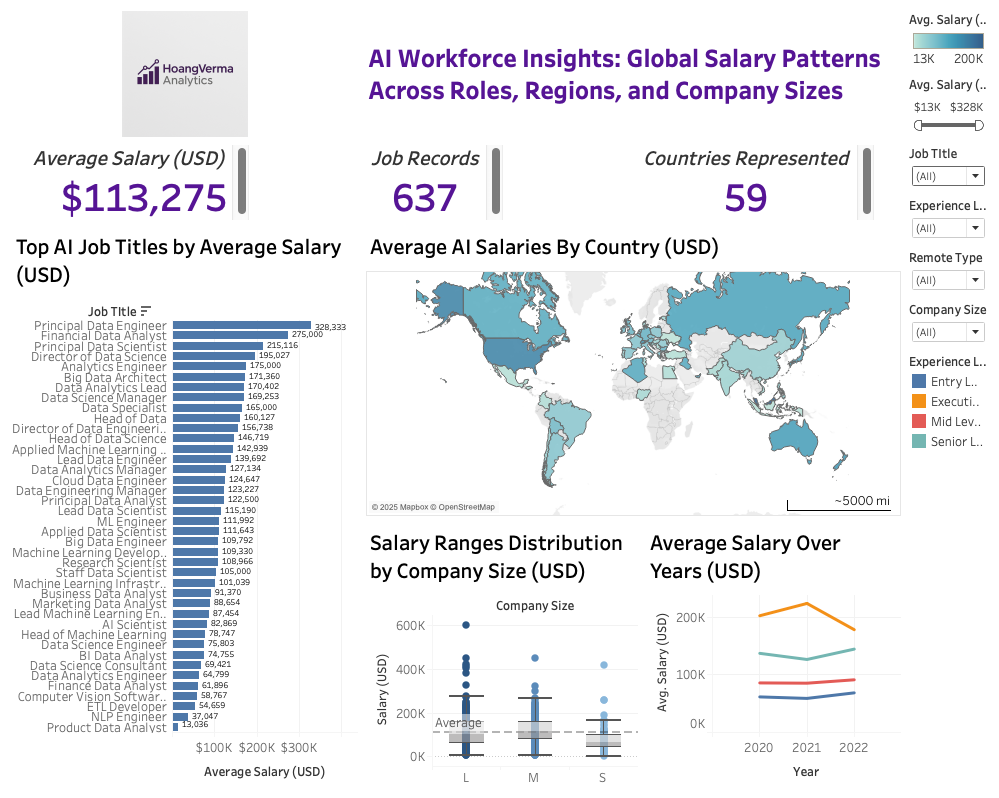

Layout of this report page (visuals, bound fields, positions):
{"tool":"tableau","page":{"name":"AI Salaries Dashboard: Exploring Pay by Role, Experience, and Work Style","canvas":[1000,800],"ordinal":0},"visuals":[{"type":"image","param":"Image/ChatGPT Image Oct 6, 2025, 06_28_18 PM.png","box":[8,8,353.8,134]},{"type":"text","box":[361.8,8,543.2,134]},{"type":"legend","title":"Map - Salary by Company Location","param":"[federated.12j5se81bbtu4p132m4yo08x0md2].[avg:Salary (USD):qk]","box":[905,8,87,65]},{"type":"filter","title":"Bar Chart - Job Title Salaries","param":"[federated.12j5se81bbtu4p132m4yo08x0md2].[avg:Salary (USD):qk]","box":[905,73,87,69]},{"type":"worksheet","title":"KPI – Average Salary","mark":"Automatic","box":[8,142,353.8,83]},{"type":"worksheet","title":"KPI – Job Records","mark":"Automatic","box":[361.8,142,271.6,83]},{"type":"worksheet","title":"KPI – Countries","mark":"Automatic","box":[633.4,142,271.6,83]},{"type":"filter","title":"Bar Chart - Job Title Salaries","param":"[federated.12j5se81bbtu4p132m4yo08x0md2].[none:Job TItle:nk]","box":[905,142,87,52]},{"type":"filter","title":"Bar Chart - Job Title Salaries","param":"[federated.12j5se81bbtu4p132m4yo08x0md2].[none:Experience Level:nk]","box":[905,194,87,52]},{"type":"worksheet","title":"Bar Chart - Job Title Salaries","mark":"Automatic","rows":["Job TItle"],"cols":["Salary (USD)"],"box":[8,225,353.8,567]},{"type":"worksheet","title":"Map - Salary by Company Location","mark":"Automatic","box":[361.8,225,543.2,296]},{"type":"filter","title":"Bar Chart - Job Title Salaries","param":"[federated.12j5se81bbtu4p132m4yo08x0md2].[none:Remote Type:nk]","box":[905,246,87,52]},{"type":"filter","title":"Bar Chart - Job Title Salaries","param":"[federated.12j5se81bbtu4p132m4yo08x0md2].[none:Company Size:nk]","box":[905,298,87,52]},{"type":"legend","title":"Line - Salary Trend Over Time","param":"[federated.12j5se81bbtu4p132m4yo08x0md2].[none:Experience Label:nk]","box":[905,350,87,106]},{"type":"worksheet","title":"Box Plot - Salary by Experience Level","mark":"Circle","rows":["Salary (USD)"],"cols":["Company Size"],"box":[361.8,521,280,271]},{"type":"worksheet","title":"Line - Salary Trend Over Time","mark":"Automatic","rows":["Salary (USD)"],"cols":["Year"],"box":[641.8,521,263.2,271]}]}

Visuals, with their boxes in screenshot pixels (x1, y1, x2, y2), scaled from the page's 1000x800 canvas onto the 999x798 screenshot:
image: crop(8, 8, 361, 142)
text: crop(361, 8, 904, 142)
"Map - Salary by Company Location" legend: crop(904, 8, 991, 73)
"Bar Chart - Job Title Salaries" filter: crop(904, 73, 991, 142)
"KPI – Average Salary" worksheet: crop(8, 142, 361, 224)
"KPI – Job Records" worksheet: crop(361, 142, 633, 224)
"KPI – Countries" worksheet: crop(633, 142, 904, 224)
"Bar Chart - Job Title Salaries" filter: crop(904, 142, 991, 194)
"Bar Chart - Job Title Salaries" filter: crop(904, 194, 991, 245)
"Bar Chart - Job Title Salaries" worksheet: crop(8, 224, 361, 790)
"Map - Salary by Company Location" worksheet: crop(361, 224, 904, 520)
"Bar Chart - Job Title Salaries" filter: crop(904, 245, 991, 297)
"Bar Chart - Job Title Salaries" filter: crop(904, 297, 991, 349)
"Line - Salary Trend Over Time" legend: crop(904, 349, 991, 455)
"Box Plot - Salary by Experience Level" worksheet (Circle marks): crop(361, 520, 641, 790)
"Line - Salary Trend Over Time" worksheet: crop(641, 520, 904, 790)
